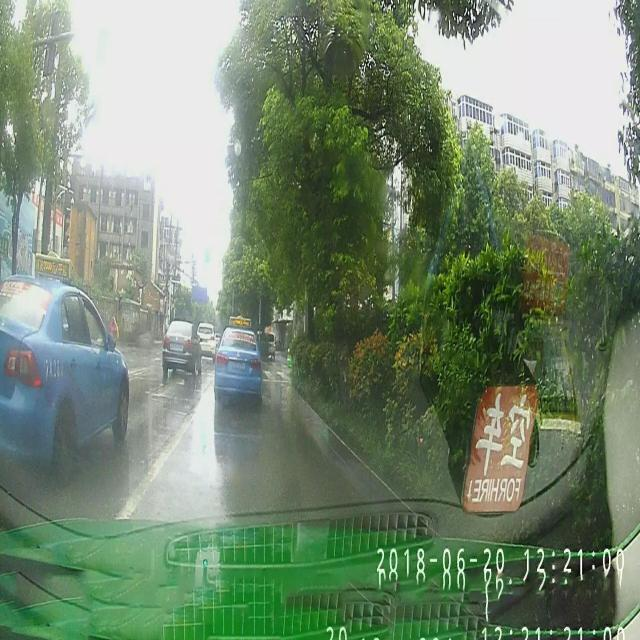car: (0, 272, 127, 468), (214, 322, 262, 400), (160, 320, 200, 376), (196, 322, 216, 360)
